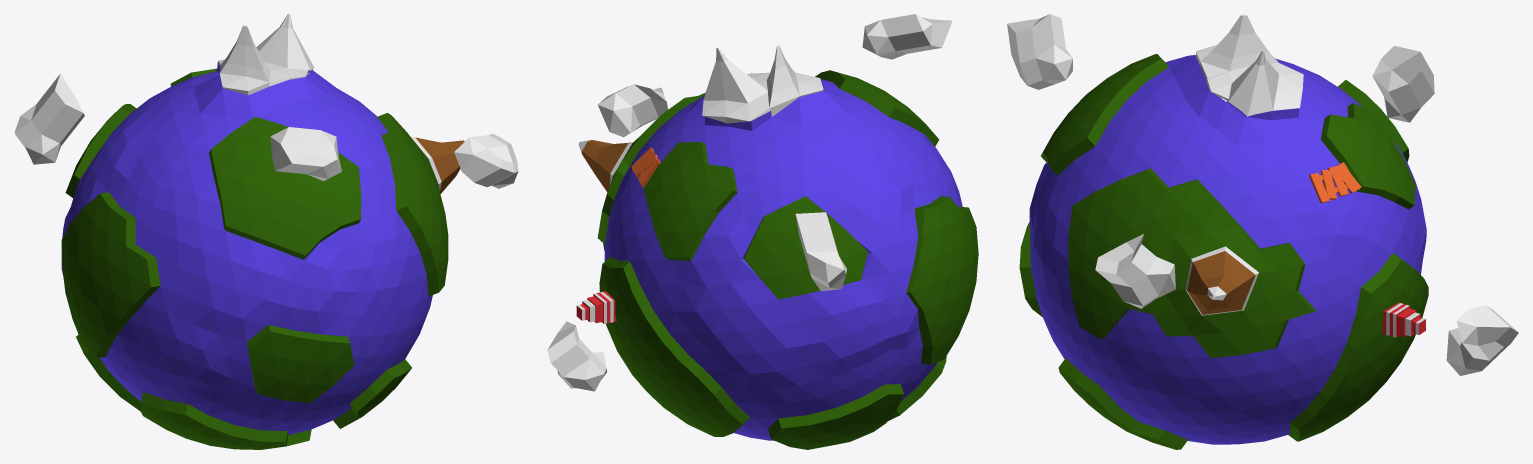
File: world2.glb
3 renders of one model, left to right at view 1: azimuth 30°, elevation 25°; view 2: azimuth 150°, elevation 25°; view 3: azimuth 270°, elevation 25°, orthographic. The views are drawn at different scales.
Visible parts, largest first — view 1: Icosphere, Icosphere.004, Icosphere.001, Icosphere.002; view 2: Icosphere, Icosphere.001, Icosphere.004, Icosphere.003, Icosphere.002, Cube.001, Cube.002; view 3: Icosphere, Icosphere.001, Icosphere.002, Icosphere.004, Icosphere.003, Cube.002, Cube.001.
Boxes of the visible parts, box(x1,y1,x2,y2) form: Icosphere: box(61, 14, 464, 449); Icosphere.004: box(14, 73, 84, 164); Icosphere.001: box(270, 127, 341, 181); Icosphere.002: box(454, 133, 518, 188); Icosphere: box(578, 45, 978, 449); Icosphere.001: box(862, 14, 952, 59); Icosphere.004: box(795, 212, 846, 290); Icosphere.003: box(547, 321, 607, 391); Icosphere.002: box(598, 84, 668, 136); Cube.001: box(576, 291, 616, 323); Cube.002: box(631, 147, 660, 188); Icosphere: box(1019, 14, 1428, 449); Icosphere.001: box(1007, 14, 1072, 89); Icosphere.002: box(1095, 234, 1175, 308); Icosphere.004: box(1372, 45, 1434, 122); Icosphere.003: box(1446, 305, 1518, 375); Cube.002: box(1309, 162, 1361, 203); Cube.001: box(1382, 302, 1425, 337).
Bounding box in the file's own units: 2.44 × 2.36 × 2.6.
